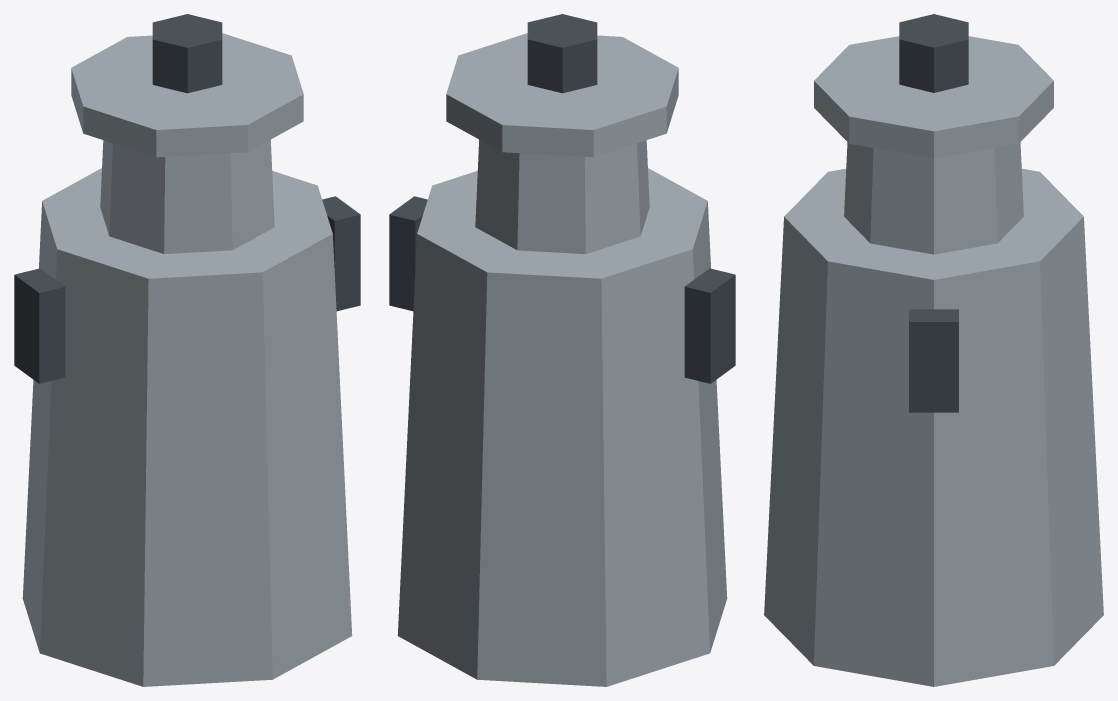
File: GT_MilkCan_01.glb
3 renders of one model, left to right at view 1: azimuth 30°, elevation 25°; view 2: azimuth 150°, elevation 25°; view 3: azimuth 270°, elevation 25°, orthographic.
Parts seen in each view (by area): view 1: GT_MilkCan_01; view 2: GT_MilkCan_01; view 3: GT_MilkCan_01.
Boxes of the visible parts, x1=… form: GT_MilkCan_01: x1=14, y1=14, x2=360, y2=686; GT_MilkCan_01: x1=389, y1=14, x2=735, y2=686; GT_MilkCan_01: x1=764, y1=14, x2=1103, y2=686.
Bounding box in the file's own units: 0.37 × 0.645 × 0.34.
Materials: 1 (1 with a texture image).
